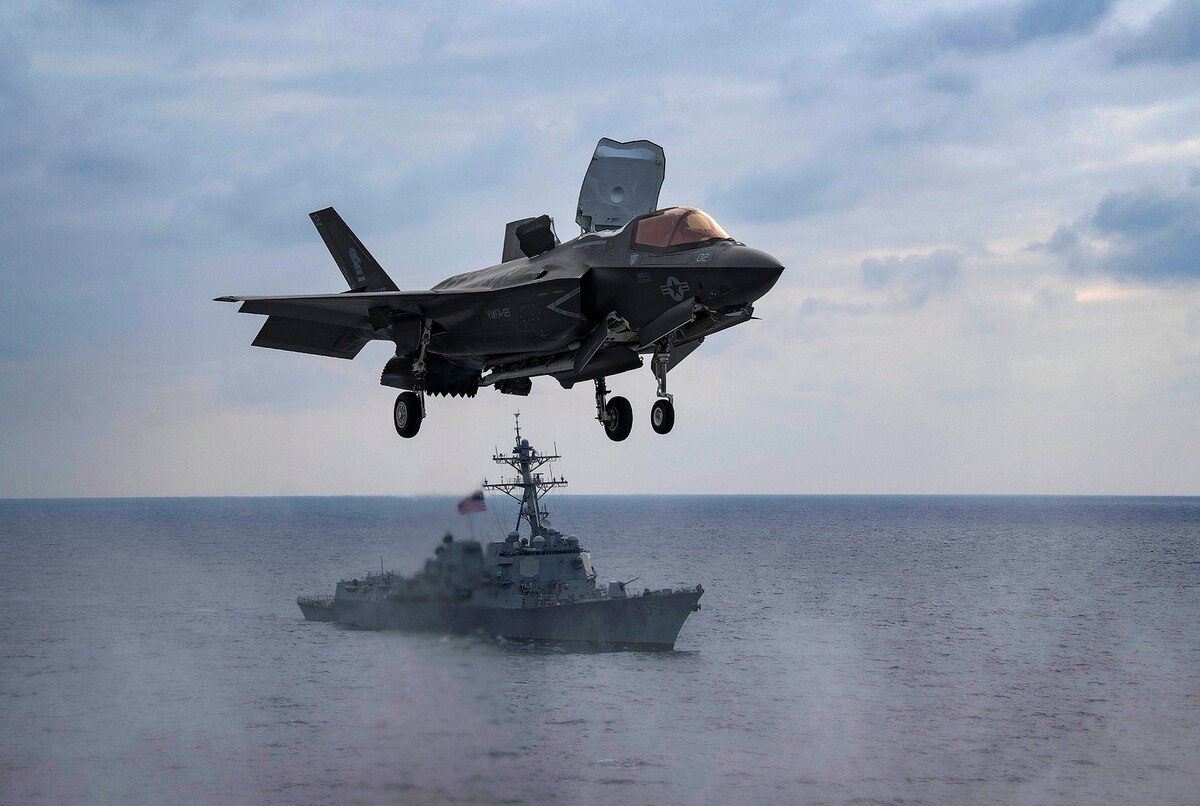F-35 Lightning: (198, 107, 810, 474)
